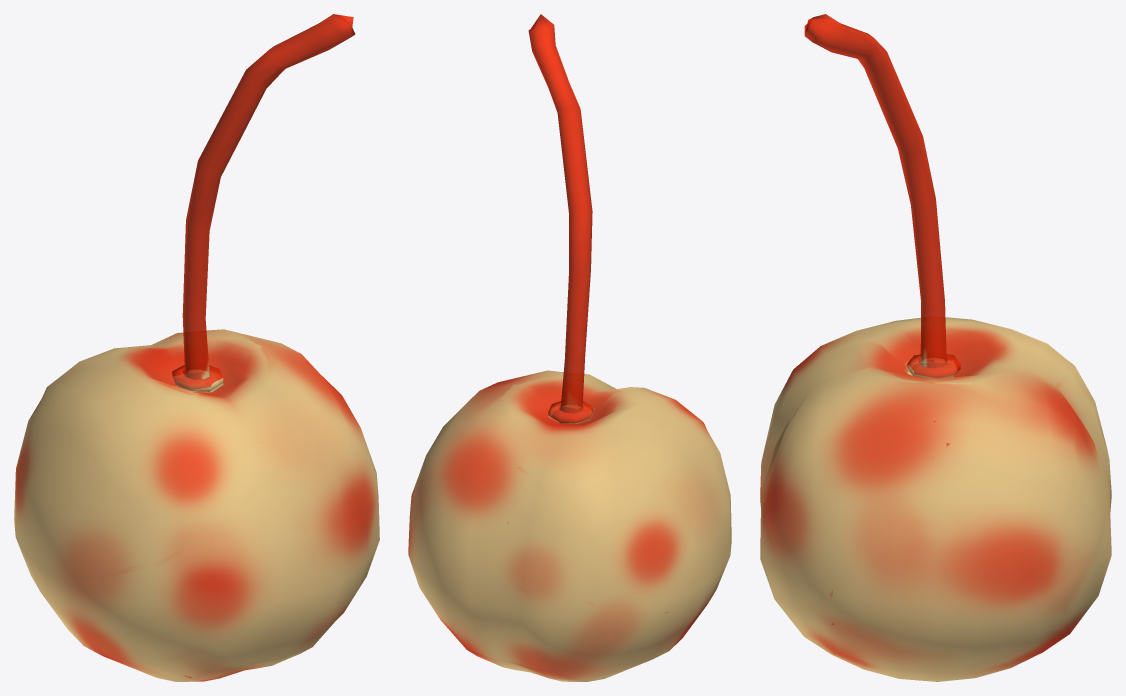
The model's file is cherry2.gltf.
3 views of the same model, side by side, from view 1: azimuth 30°, elevation 25°; view 2: azimuth 150°, elevation 25°; view 3: azimuth 270°, elevation 25° (orthographic). The views are drawn at different scales.
Visible parts, largest first — view 1: cherry3; view 2: cherry3; view 3: cherry3.
Boxes of the visible parts, box(x1,y1,x2,y2) form: cherry3: box(14, 14, 379, 681); cherry3: box(408, 14, 731, 681); cherry3: box(760, 14, 1111, 681).
Bounding box in the file's own units: 0.0195 × 0.0399 × 0.0185.
Materials: 1 (1 with a texture image).
